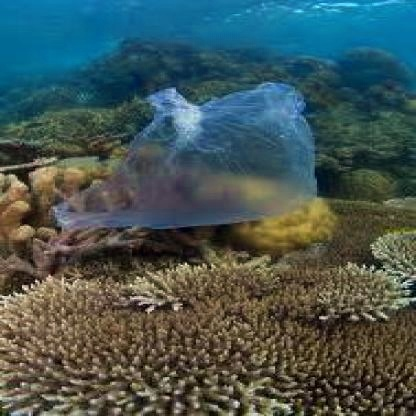pbag: (44, 78, 326, 235)
